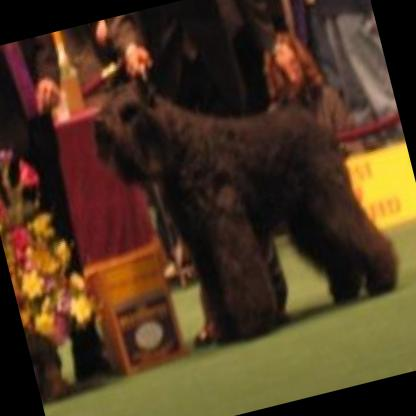Bouvier_des_Flandres: (75, 16, 404, 364)
